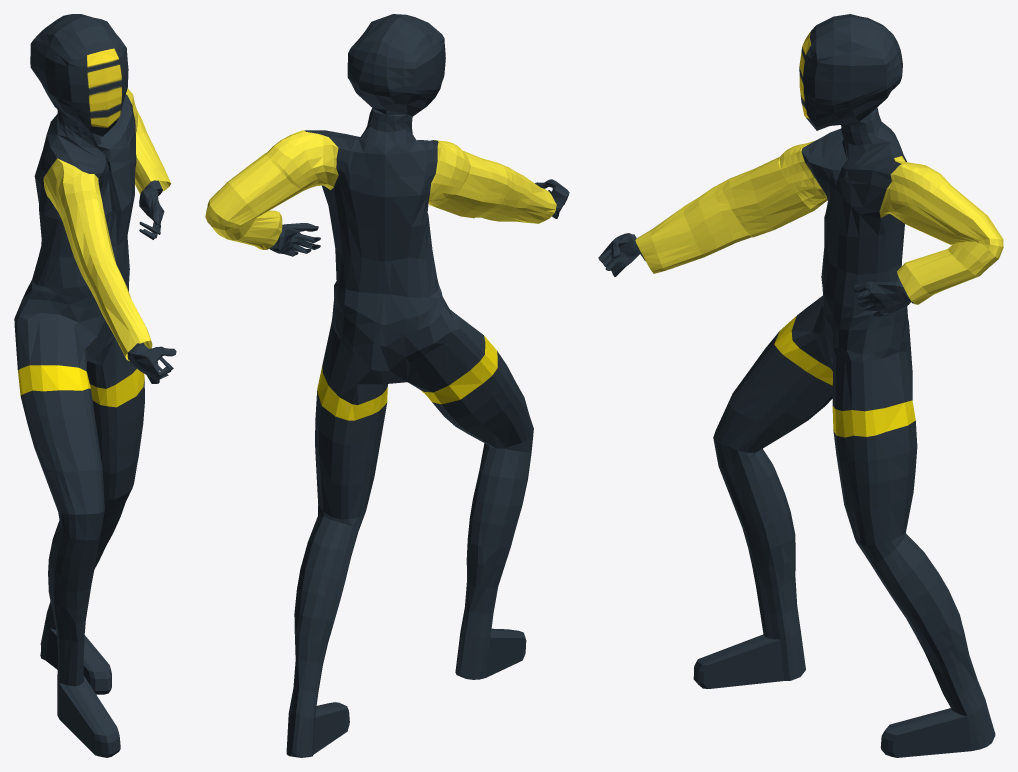
Rendered from Sentry_WB_000010.obj.
The picture shows the model from 3 angles, left to right: view 1: azimuth 30°, elevation 25°; view 2: azimuth 150°, elevation 25°; view 3: azimuth 270°, elevation 25°; orthographic projection. The views are drawn at different scales.
Parts seen in each view (by area): view 1: Cube; view 2: Cube; view 3: Cube.
Part boxes in pixels (bbox=[...]): Cube: bbox=[14, 14, 176, 757]; Cube: bbox=[205, 14, 569, 757]; Cube: bbox=[598, 14, 1003, 757].
Size of the model in its own units: 1.17 by 3.86 by 1.98.
